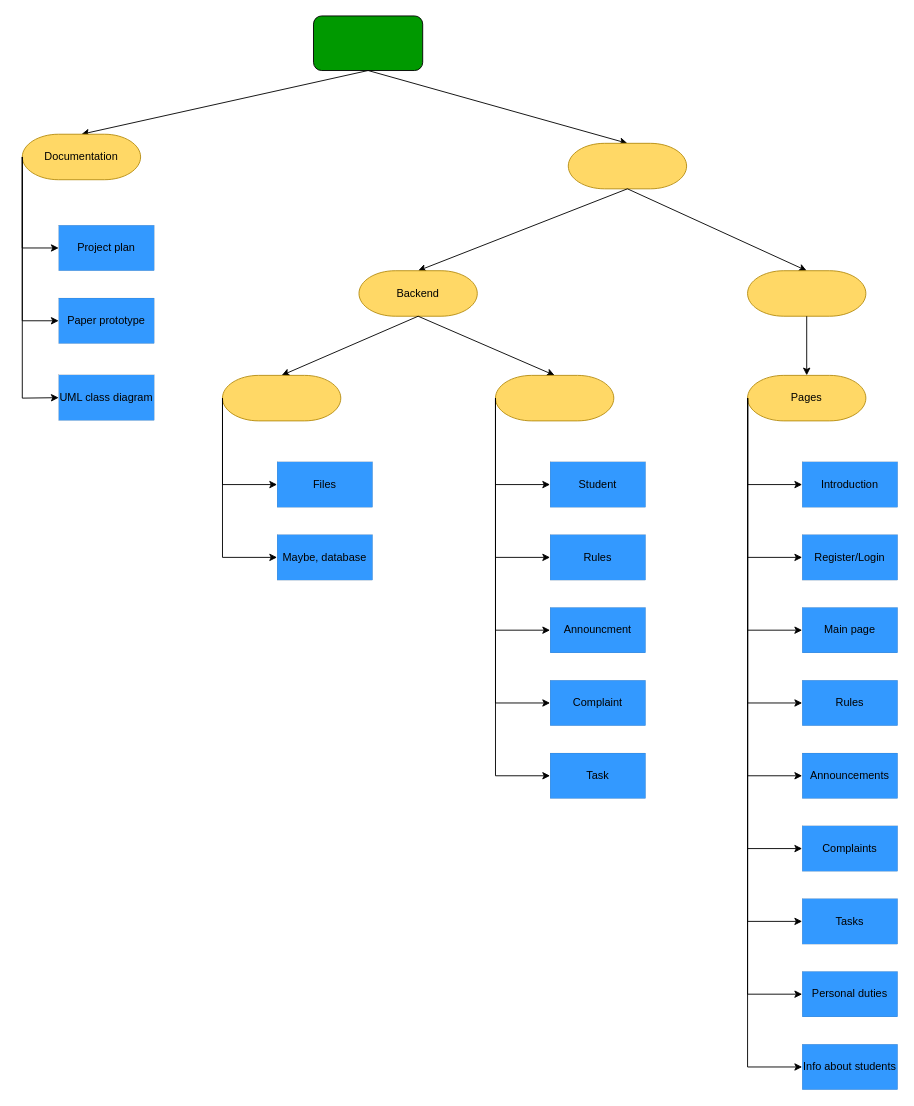
Some shapes in this 914 by 1106 pixel diagram are drawn without their labels. The centre of each missing label's shape, as x and y in pixels:
"Application" belongs at pixel 627 165.
"Classes" belongs at pixel 554 397.
"Frontend" belongs at pixel 806 293.
"Perservance" belongs at pixel 281 397.
"Student housing project" belongs at pixel 368 43.
